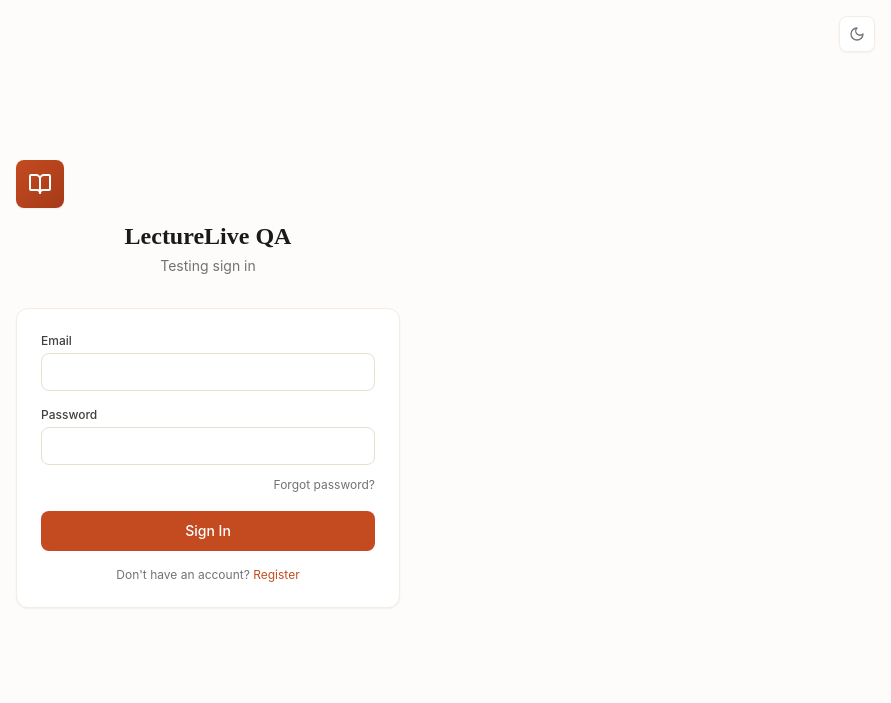
Test: LoginPage › 同页登录补偿撤销失败后立即显示 pending 重试，并阻止再次登录覆盖 cookie
Type "alice@example.com" into the field.
click(208, 372); type("alice@example.com")  # box [41,353,375,391]
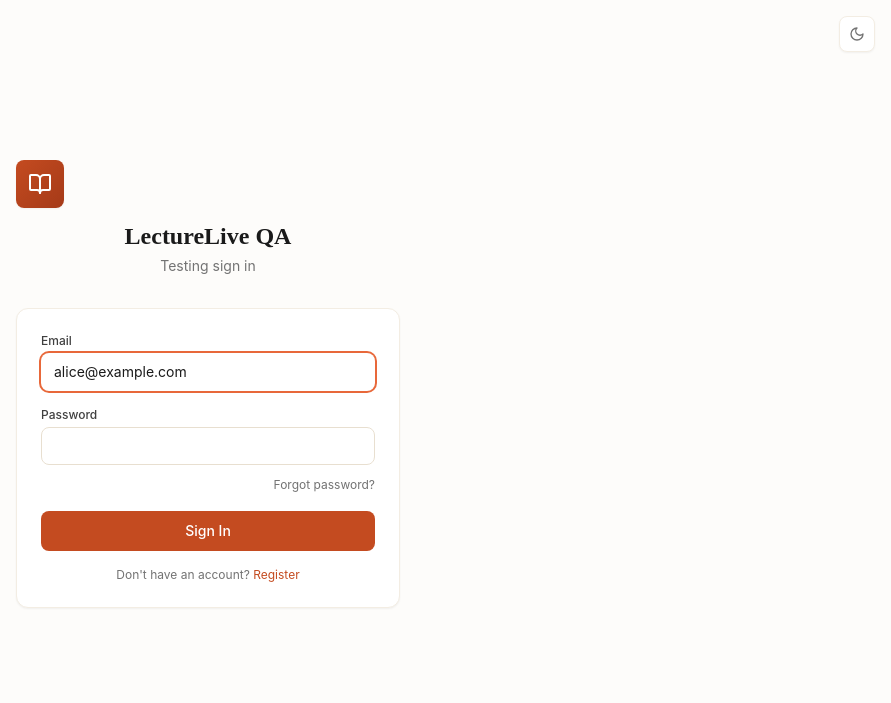
Type "Abcd1234" into the password field.
click(208, 446); type("Abcd1234")  # box [41,427,375,465]
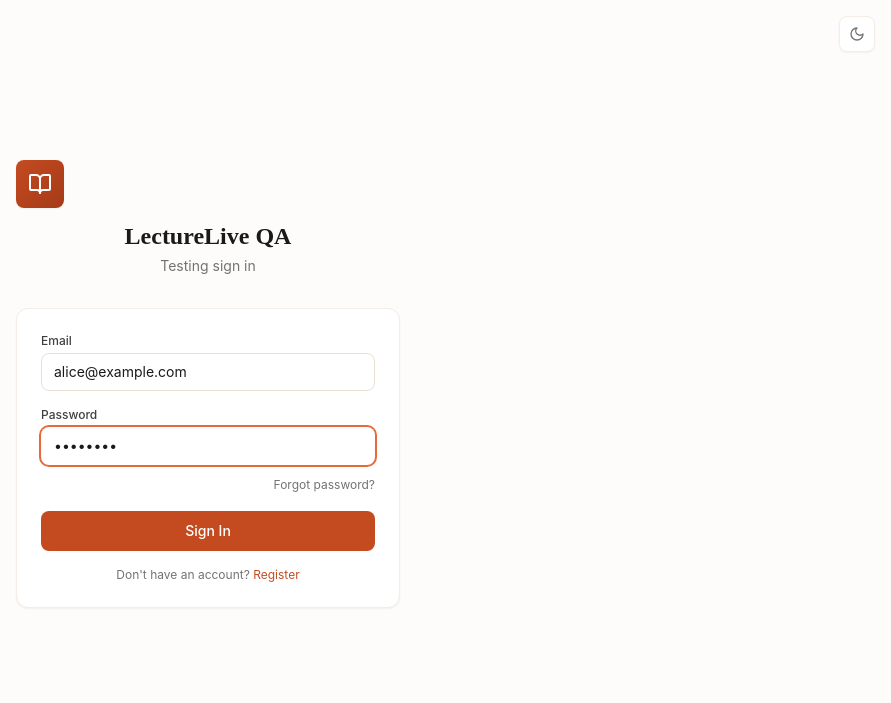
Click the button "Sign In".
click(208, 531)  # box [41,511,375,551]
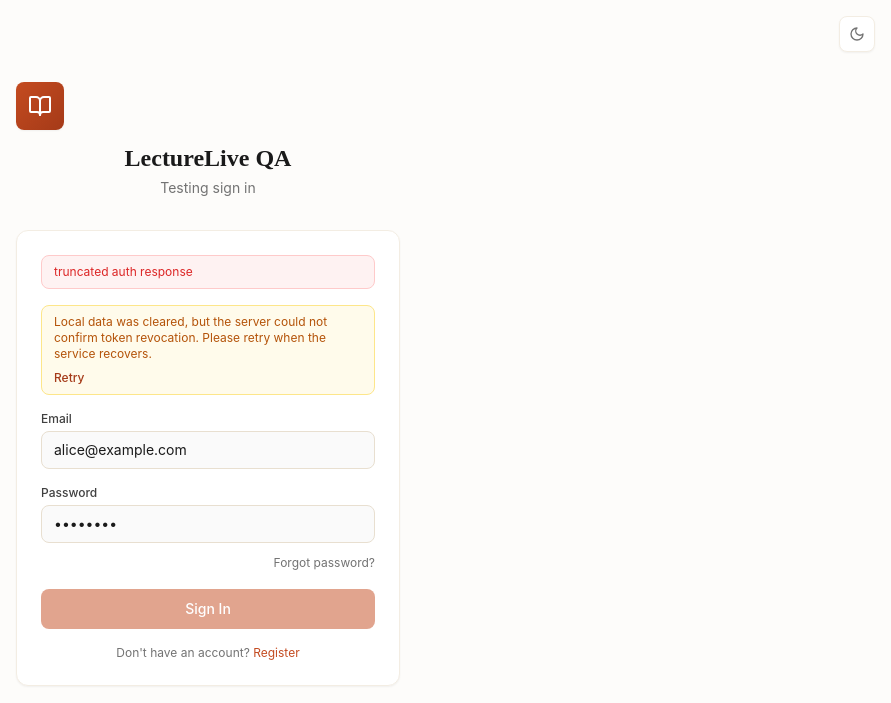
Check: the button "Sign In" is disabled, box [41,589,375,629]
Click the button "Retry".
click(69, 378)  # box [54,370,84,386]
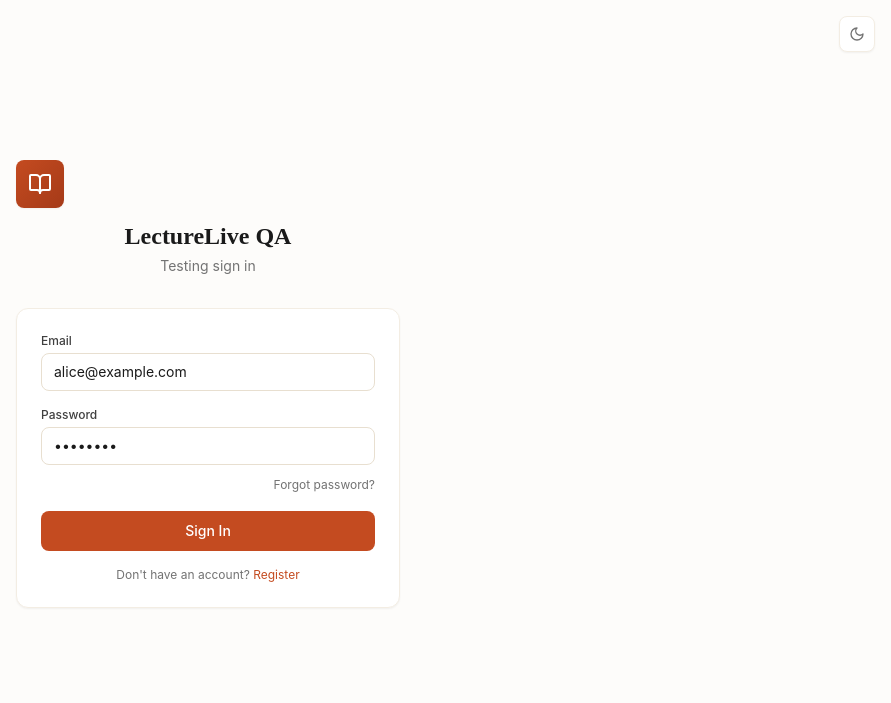
Check: the button "Sign In" is enabled, box [41,511,375,551]
